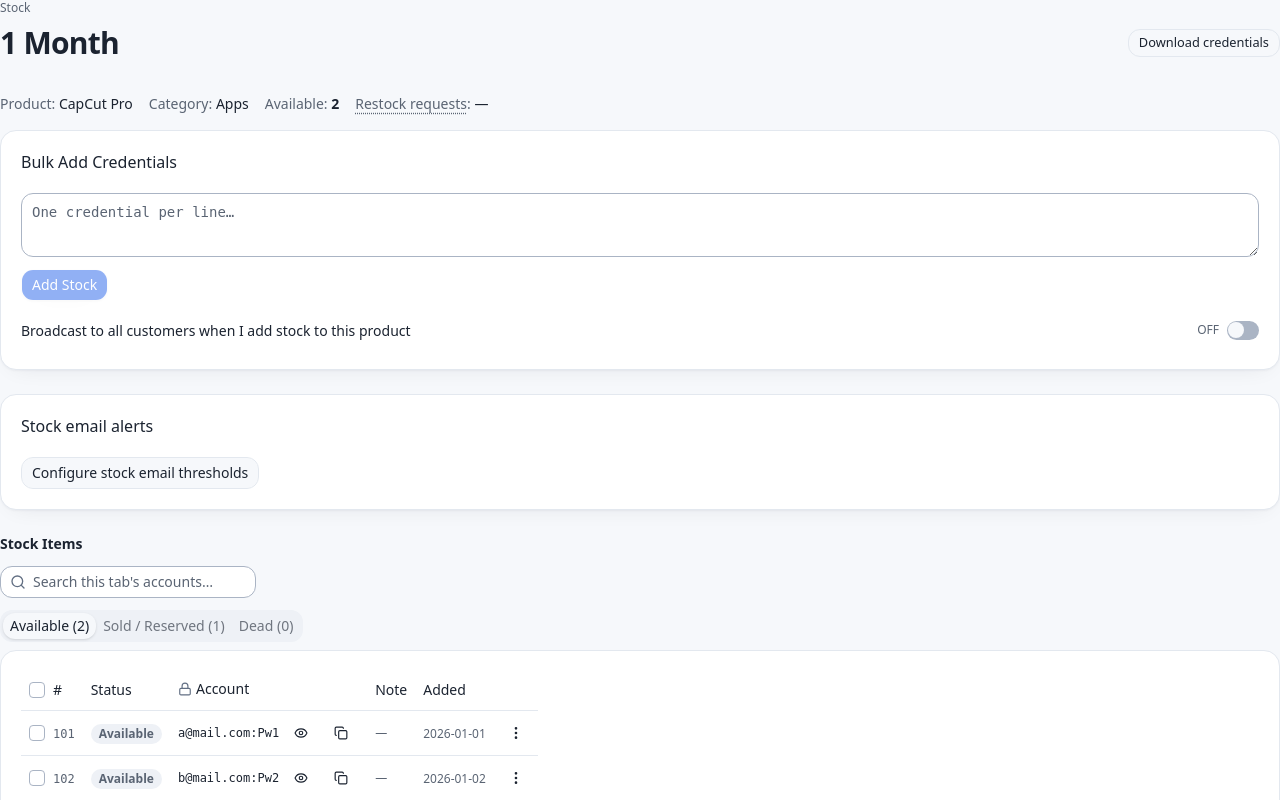
StockProductPage › bulk deletes items and shows skip explanation when some are skipped
Expected: the tab "Available (2)" is shown, [3,612,96,638]
What coordinates should you click on to do the following:
click the checkbox named "select stock item 101"
I would click on:
 (37, 733)
Its box is [29,725,45,741].
(page scrolled)
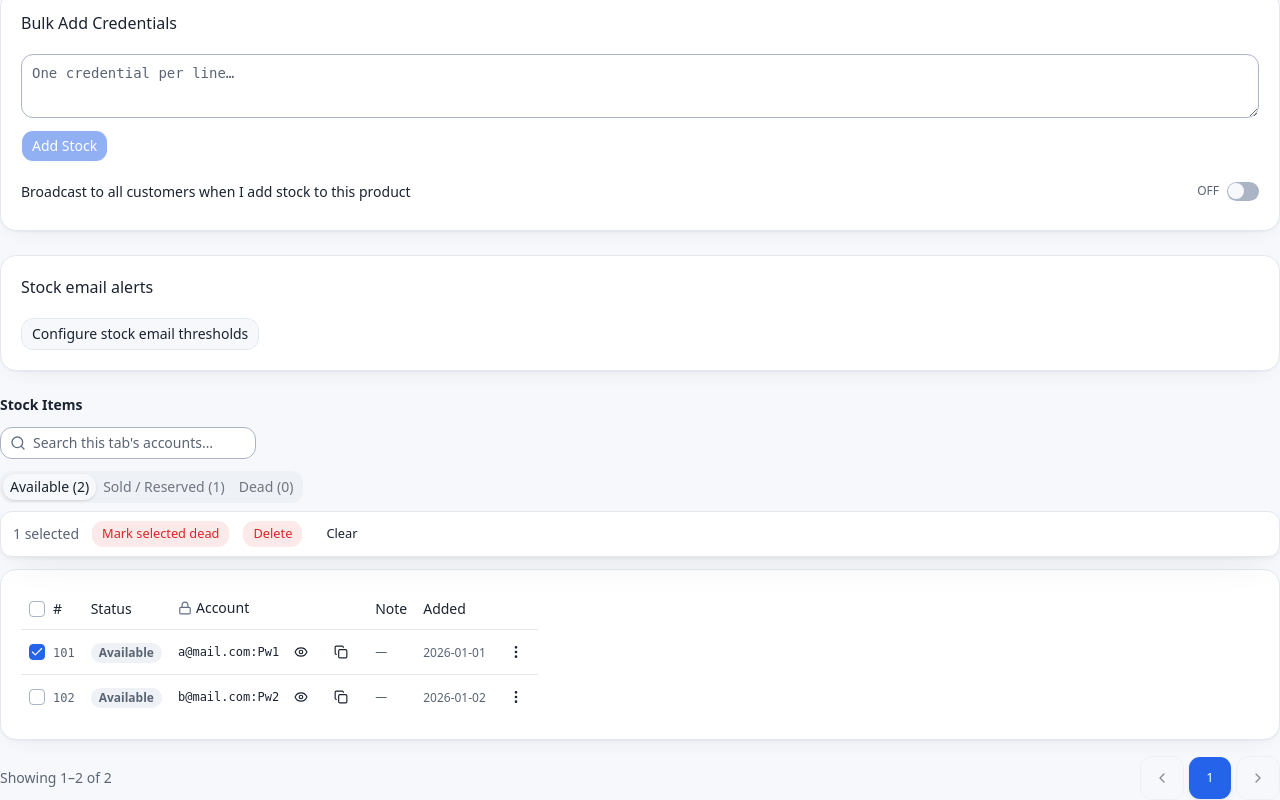
What coordinates should you click on to do the following:
click the checkbox named "select stock item 102"
I would click on:
 (37, 697)
Its box is [29,689,45,705].
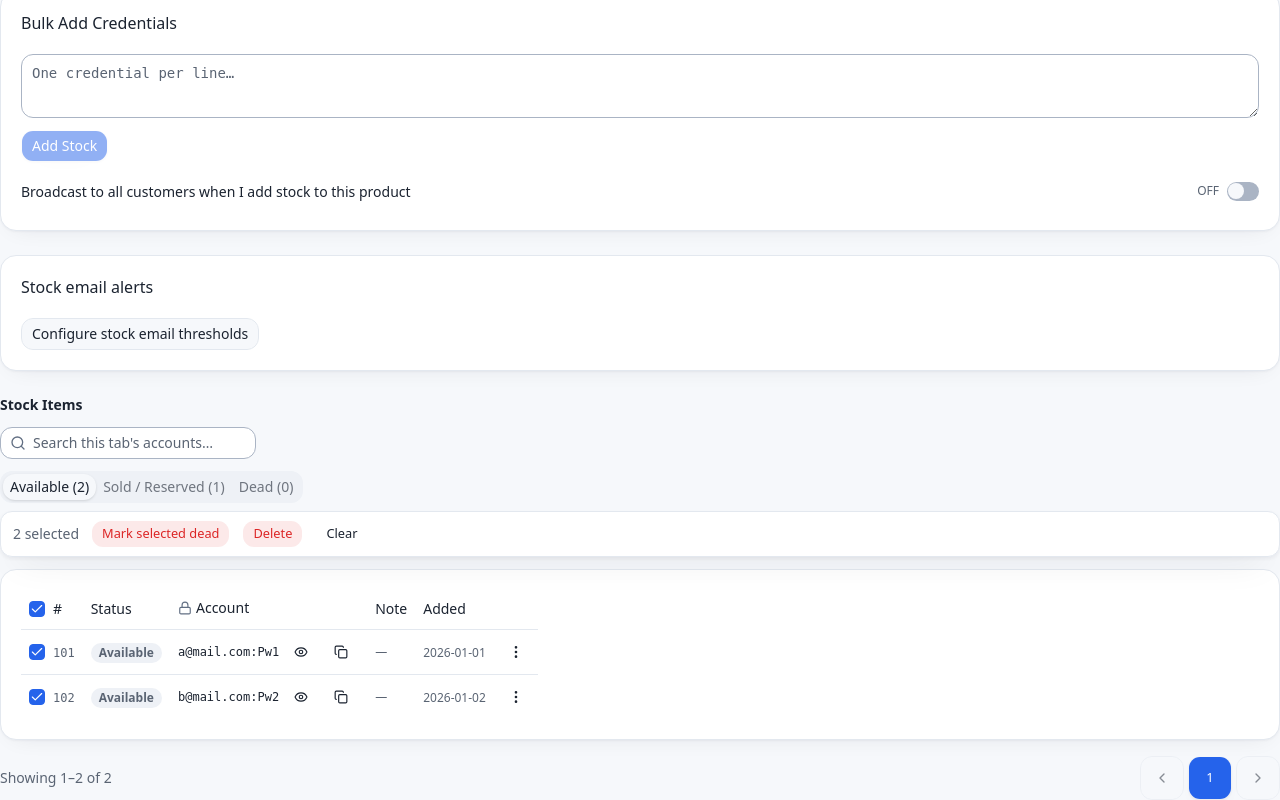
Now the text "2 selected" is shown, box [13,524,79,544]
What coordinates should you click on to do the following:
click the button "Delete"
I would click on:
 (273, 534)
Its box is [242,520,303,548].
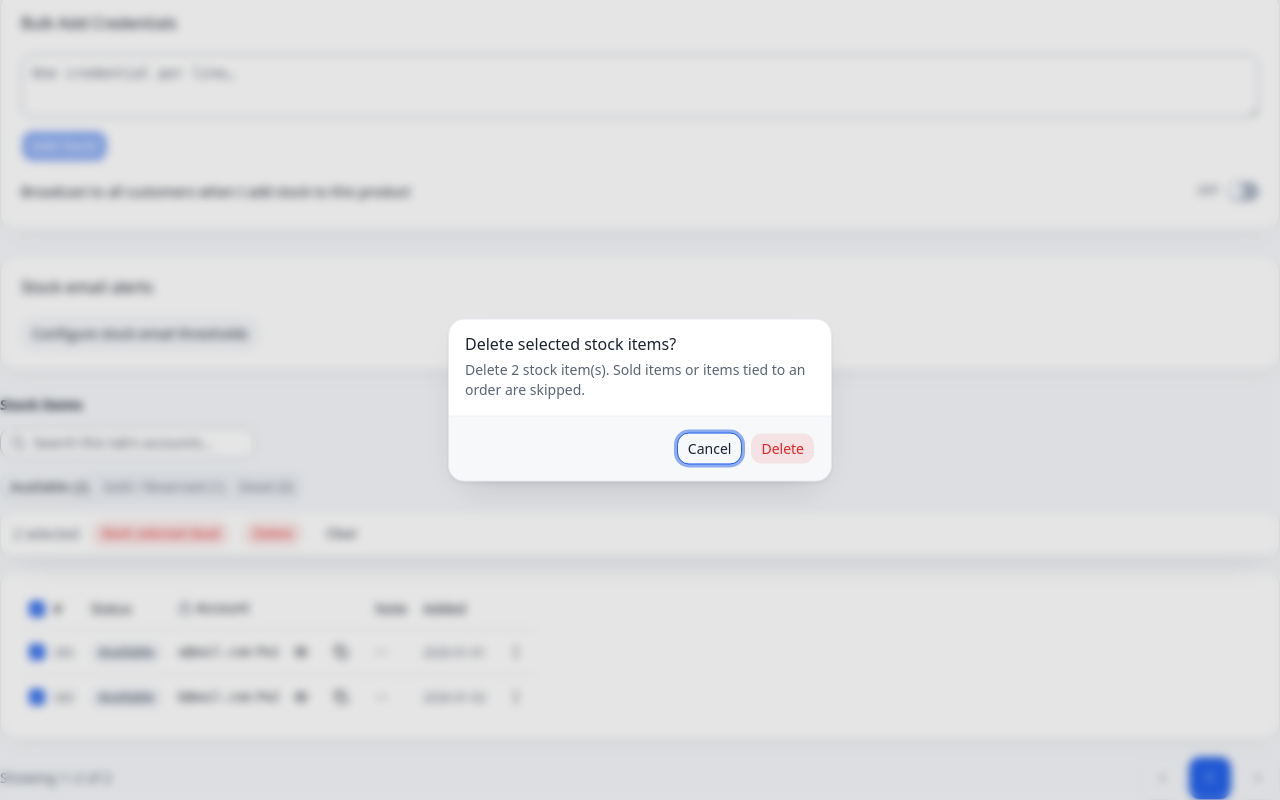
What coordinates should you click on to do the following:
click the button "Delete"
I would click on:
 (783, 448)
Its box is [750,432,815,464].
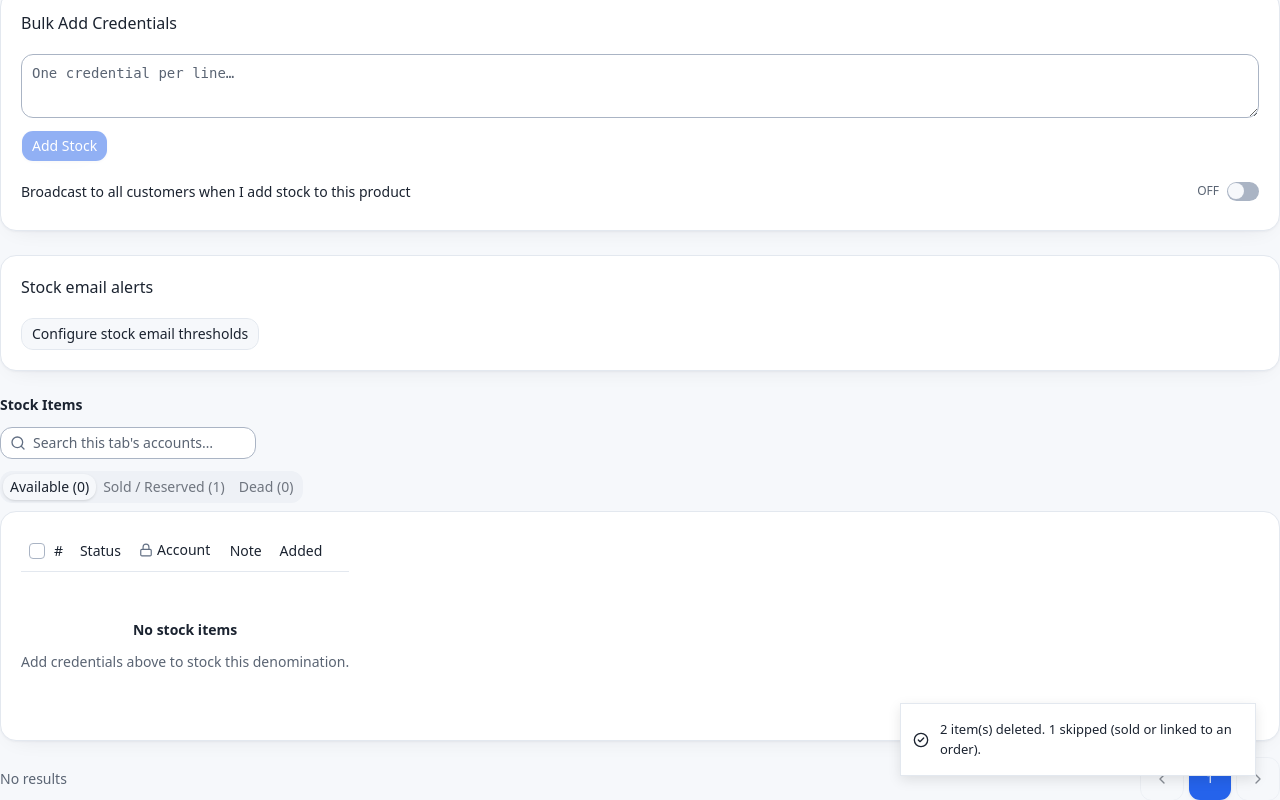
Now the text "2 item(s) deleted. 1 skipped (sold or linked to an order)." is shown, box [940,720,1239,759]
